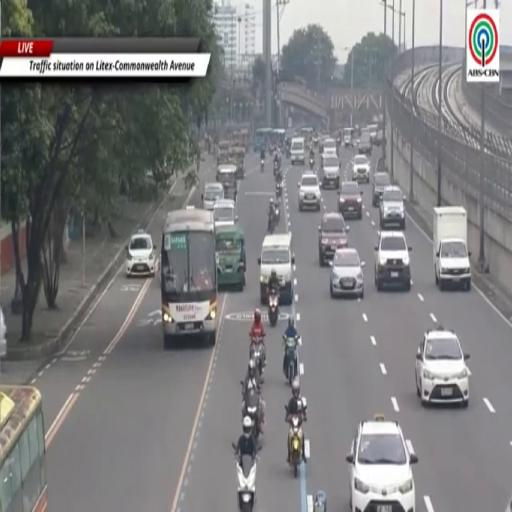bus: (161, 206, 218, 348), (0, 386, 47, 511), (254, 127, 272, 152), (300, 127, 312, 143)
car: (346, 415, 417, 511), (415, 326, 470, 407), (258, 233, 294, 305), (375, 232, 411, 291), (330, 248, 365, 298), (319, 213, 349, 266), (126, 230, 156, 277), (380, 185, 405, 229), (298, 172, 321, 211), (339, 182, 362, 219), (213, 200, 238, 227), (372, 172, 391, 206), (202, 183, 224, 211), (321, 155, 339, 188), (352, 155, 370, 183), (0, 308, 7, 358), (358, 132, 372, 155), (322, 138, 336, 155), (343, 127, 354, 148), (368, 124, 378, 143)
jeepney: (216, 223, 245, 291), (216, 164, 236, 200), (230, 147, 245, 179), (217, 140, 230, 165), (241, 128, 250, 151), (230, 130, 242, 147)
motorcycle: (236, 455, 257, 511), (287, 415, 303, 477), (243, 389, 260, 439), (284, 336, 300, 386), (250, 338, 266, 382), (268, 291, 278, 326), (268, 212, 275, 233), (275, 198, 280, 225), (276, 182, 282, 198), (274, 160, 279, 175), (260, 159, 265, 173), (310, 157, 314, 169), (286, 147, 290, 158)
truck: (433, 206, 471, 291)
